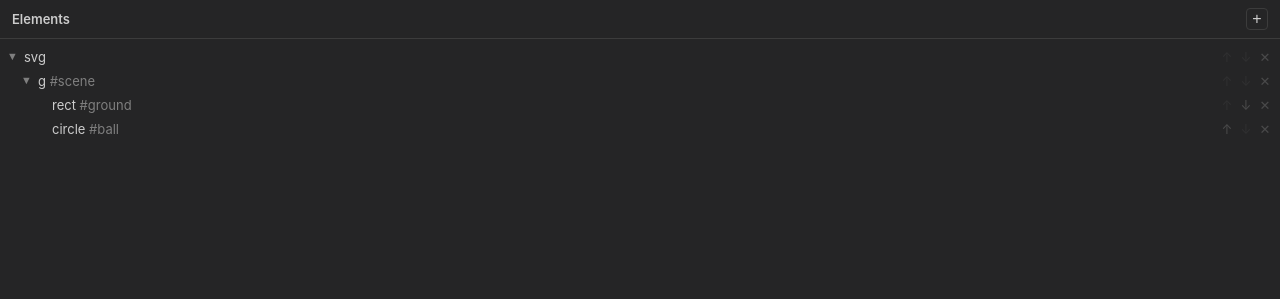
Test: ElementsPanel › adds a shape via the menu, writing the buffer and selecting the new element
The width and height of the screenshot is (1280, 299).
Click the text "#ball" at (87, 129), box [85,121,119,137]
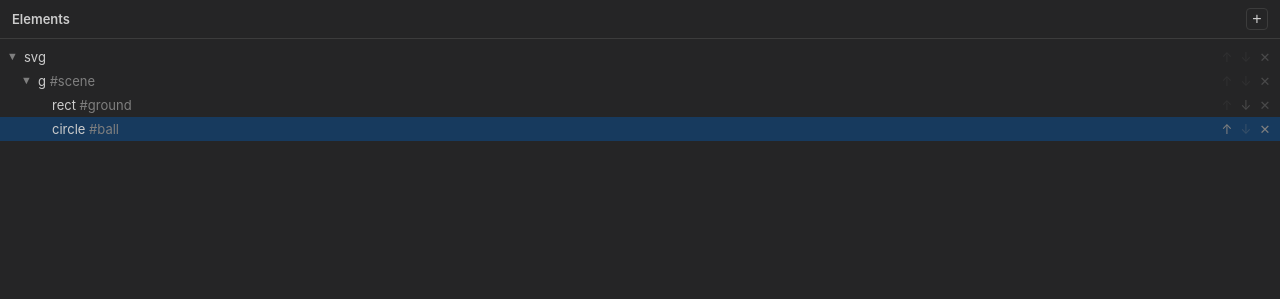
Click the button named "Add shape" at (1257, 19), box [1246,8,1268,30]
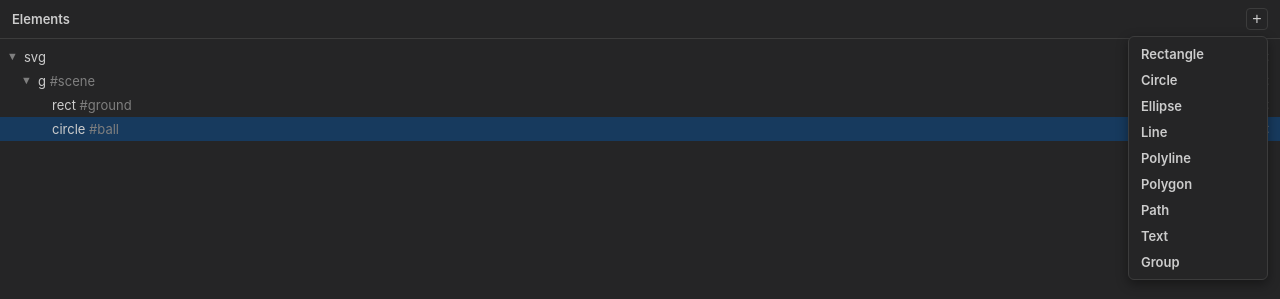
Click the menu item "Rectangle" at (1198, 54), box [1133,41,1263,67]
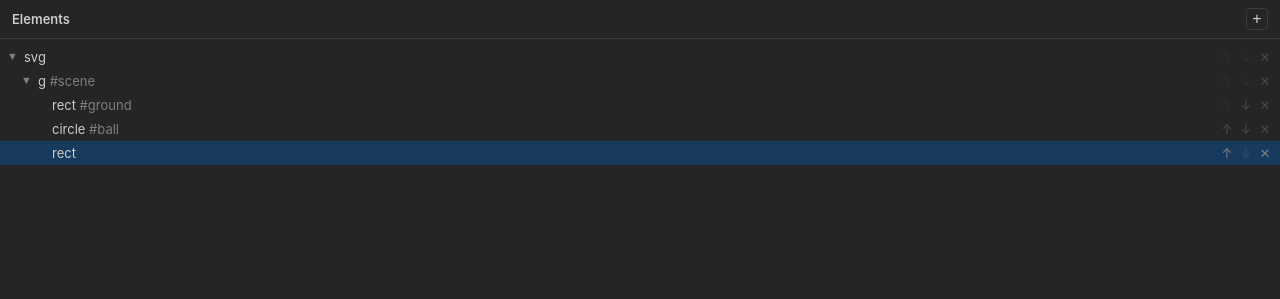
Expected: the menu is gone
